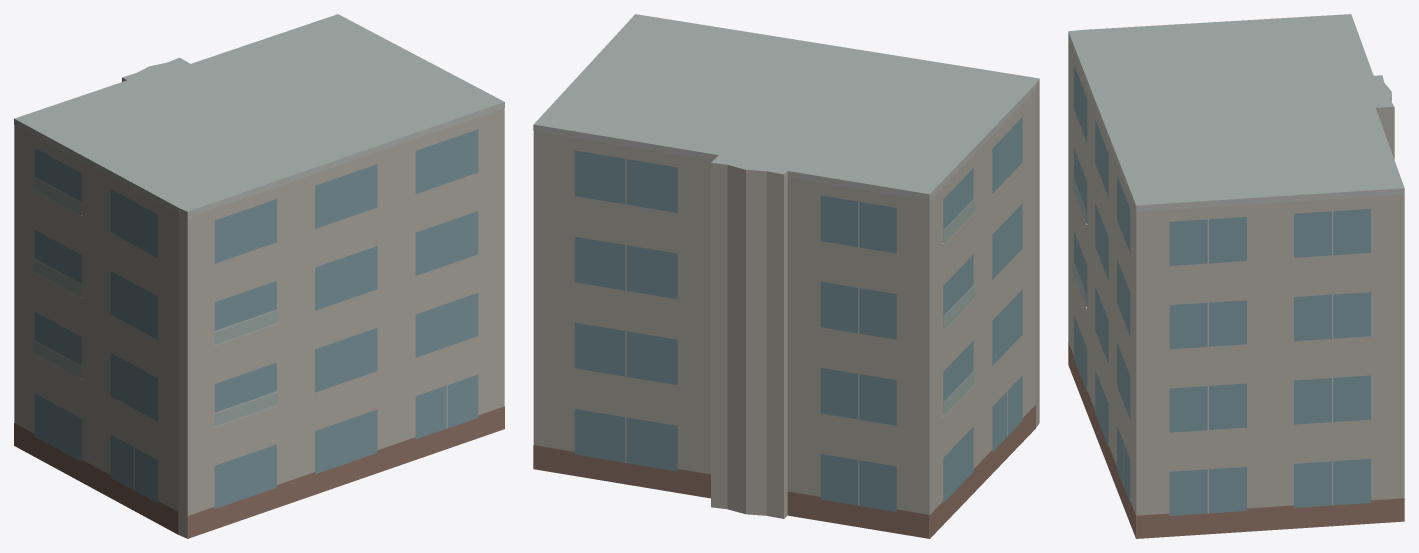
The model's file is survey-upis-32576998.glb.
The picture shows the model from 3 angles, left to right: view 1: azimuth 30°, elevation 25°; view 2: azimuth 150°, elevation 25°; view 3: azimuth 270°, elevation 25°; orthographic projection. The views are drawn at different scales.
Parts seen in each view (by area): view 1: survey-upis-32576998.tmp; view 2: survey-upis-32576998.tmp; view 3: survey-upis-32576998.tmp.
Part boxes in pixels (x1,y1,x2,y2): survey-upis-32576998.tmp: [14, 14, 504, 538]; survey-upis-32576998.tmp: [533, 14, 1039, 538]; survey-upis-32576998.tmp: [1068, 14, 1404, 538].
Size of the model in its own units: 15.78 by 12.8 by 11.72.
